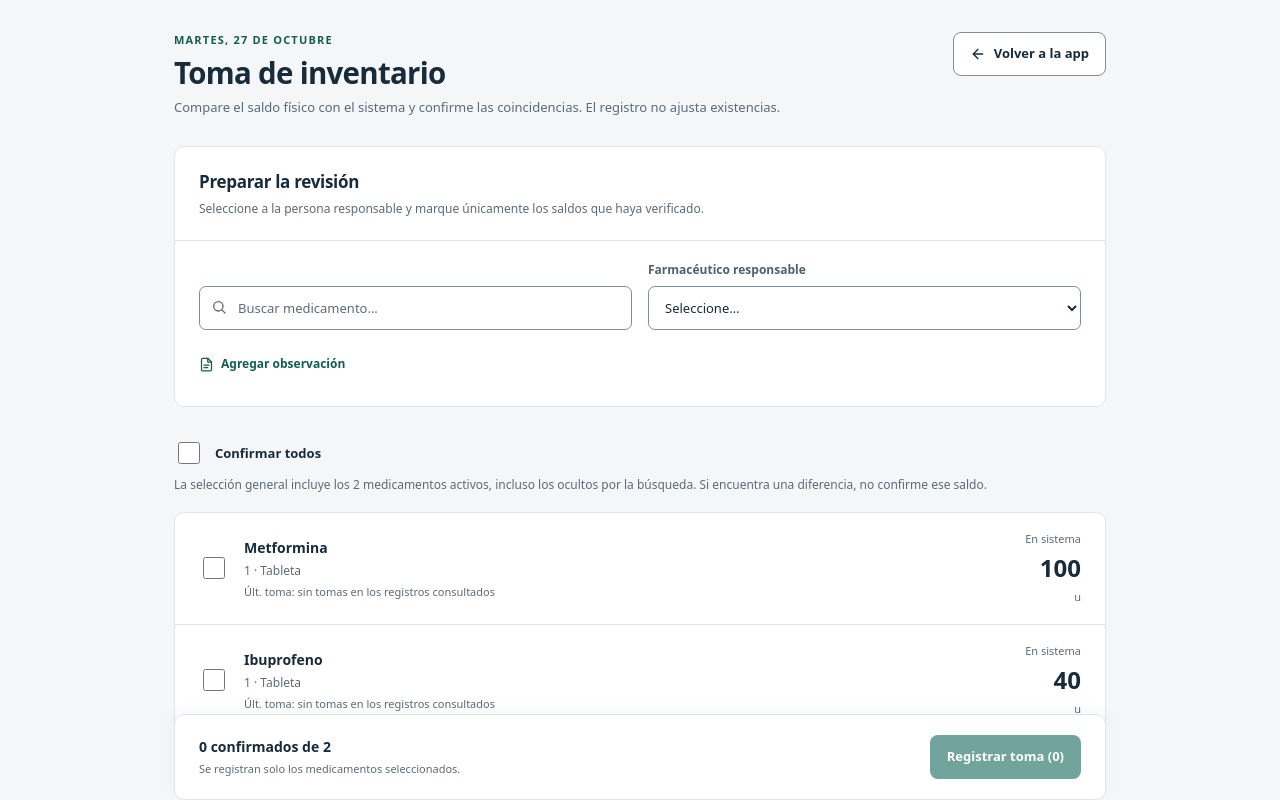
Test case: ArqueoScreen › limpia la observación visible tras registrar y mantiene el stock de sistema
The width and height of the screenshot is (1280, 800).
Click the button "Agregar observación" at (272, 364), box x1=199 y1=342 x2=345 y2=386
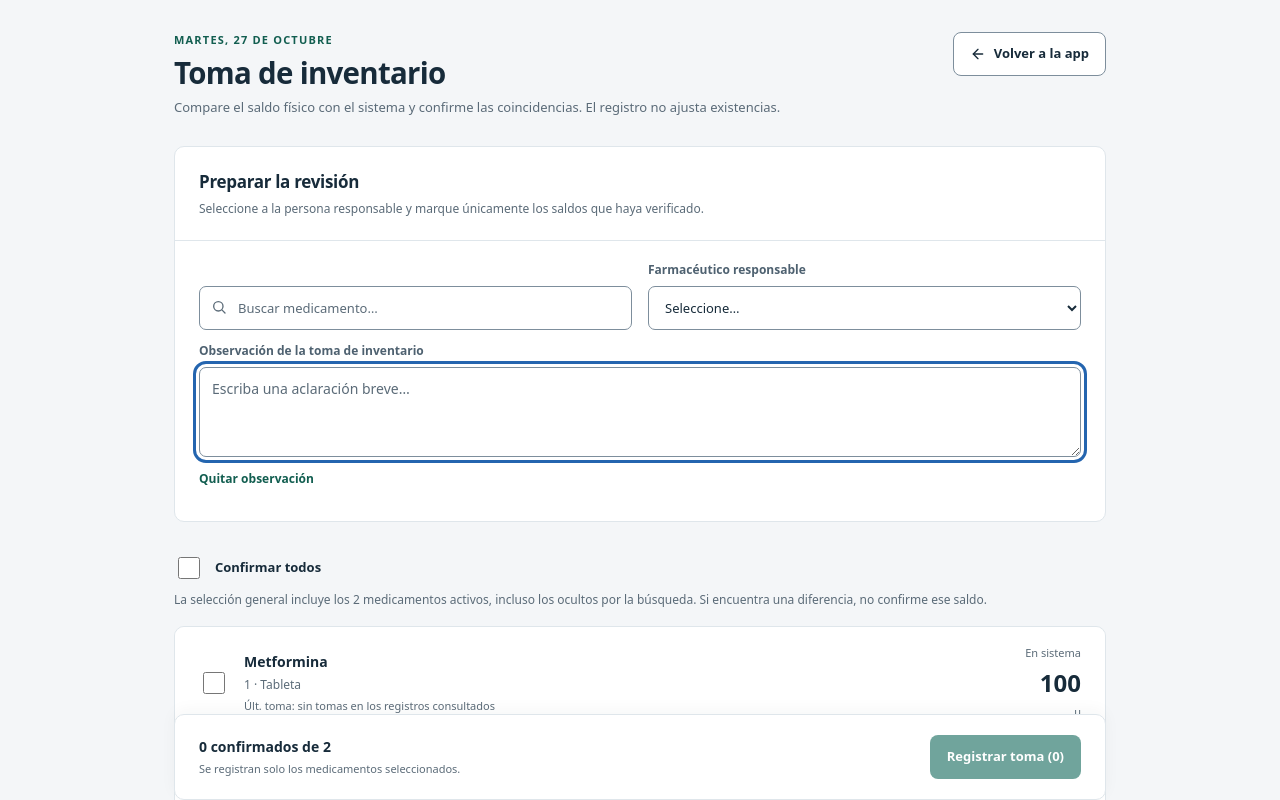
Type "Verificación DEMO" into the text box labelled "Observación de la toma de inventario" at (640, 412), box x1=199 y1=368 x2=1081 y2=457
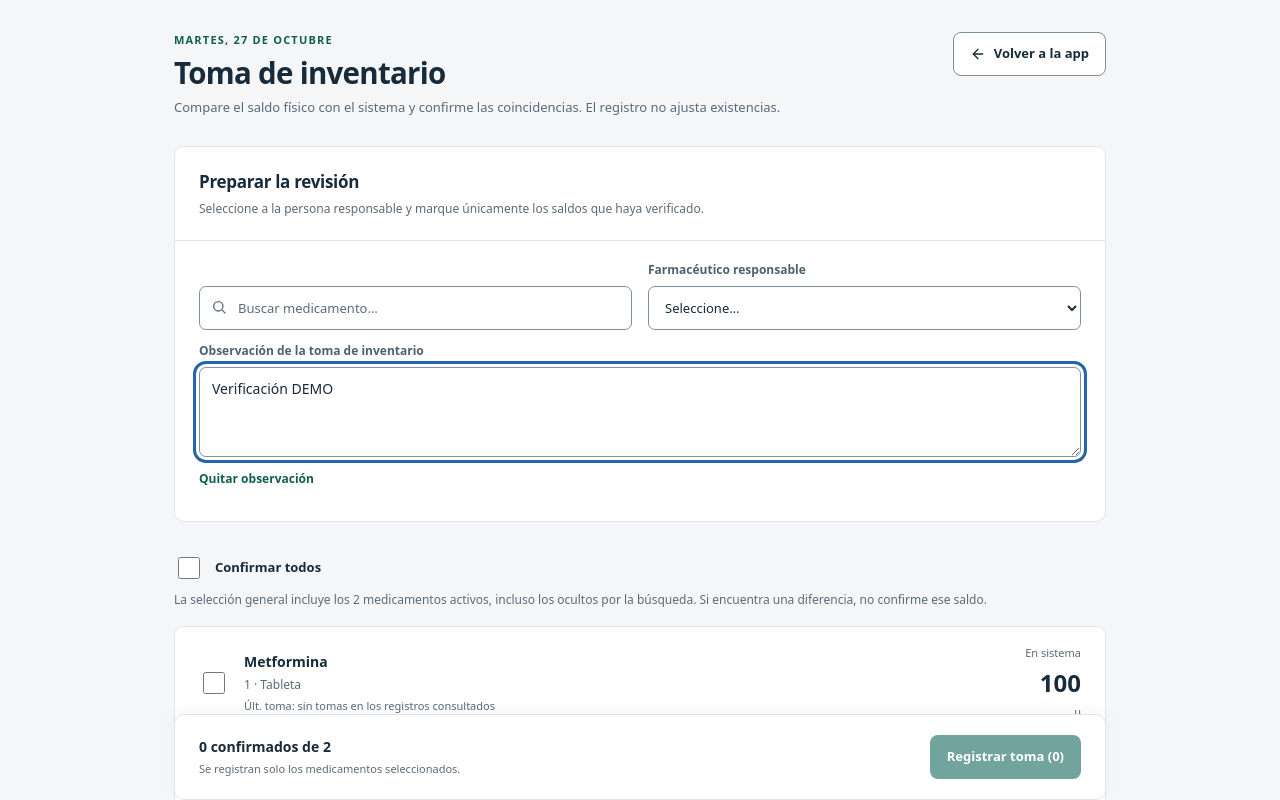
Click the checkbox named "Confirmar saldo de Metformina" at (214, 682), box x1=203 y1=672 x2=225 y2=694
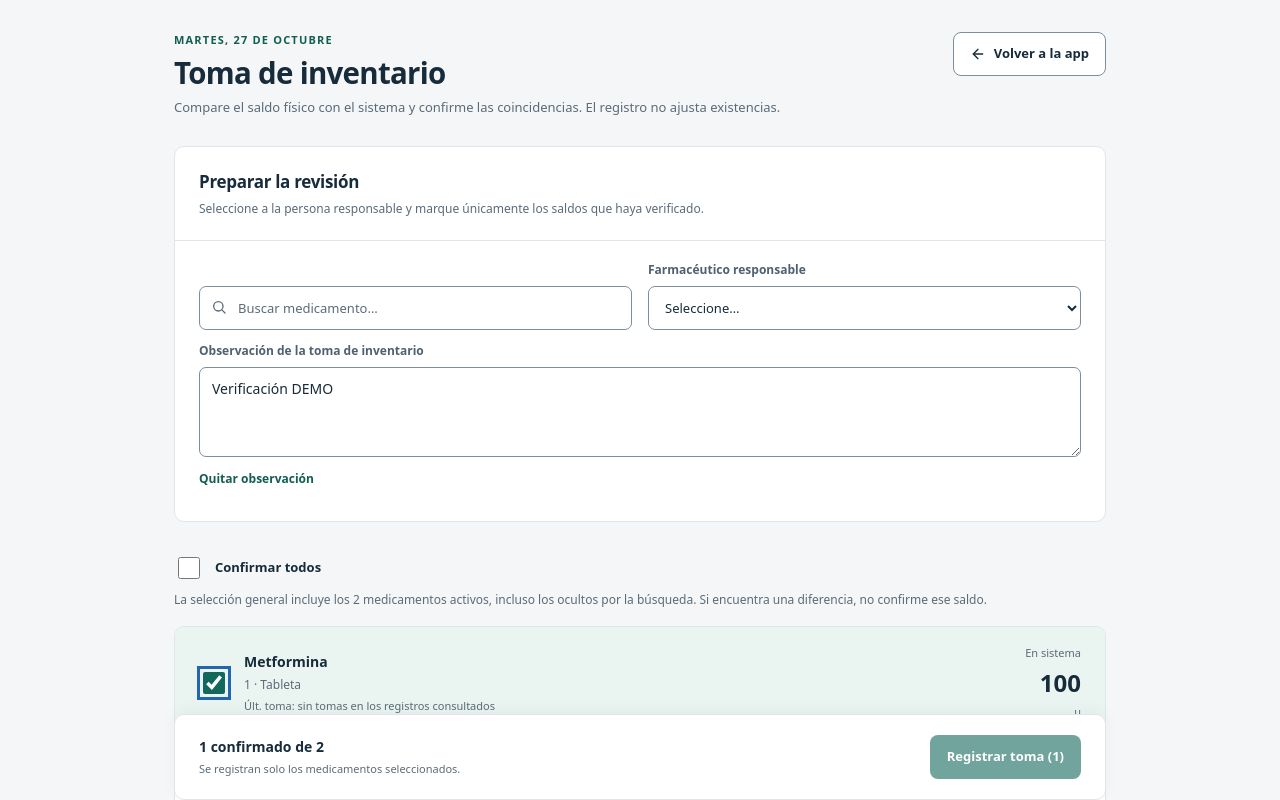
Select "Ana Rojas — CF-1" in the dropdown labelled "Farmacéutico responsable" at (864, 308), box x1=648 y1=286 x2=1081 y2=330
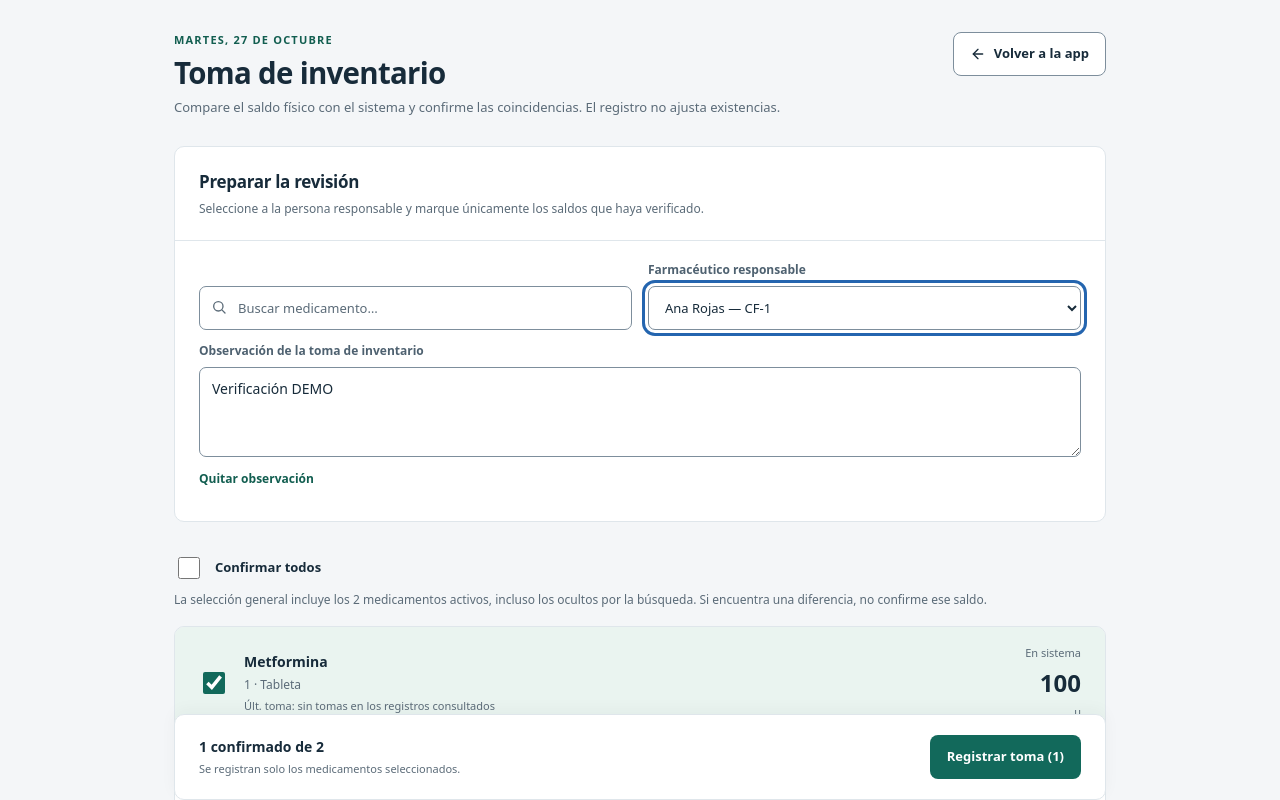
Click the button "Registrar toma (1)" at (1005, 757), box x1=930 y1=735 x2=1081 y2=779
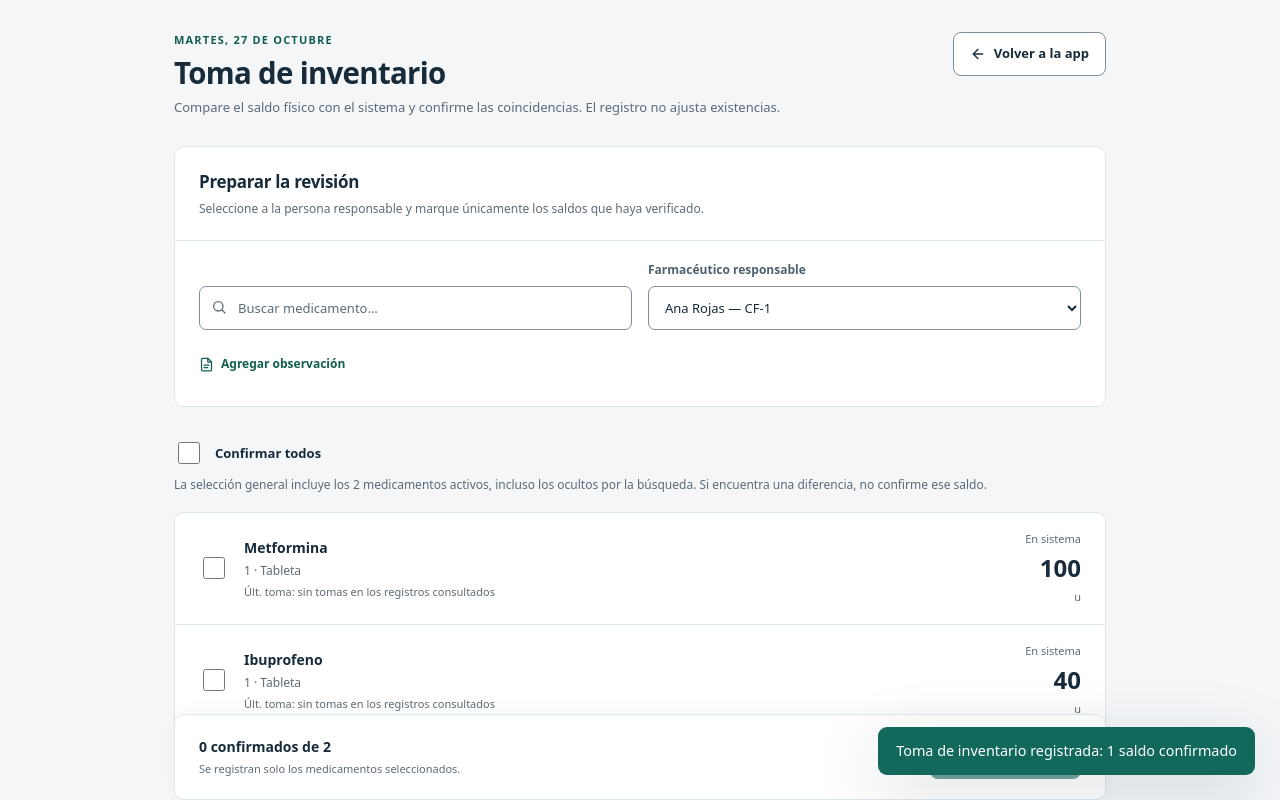
Check: the field showing "Verificación DEMO" is not shown
Check: the text "0 confirmados de 2" is shown, box x1=199 y1=737 x2=331 y2=756
